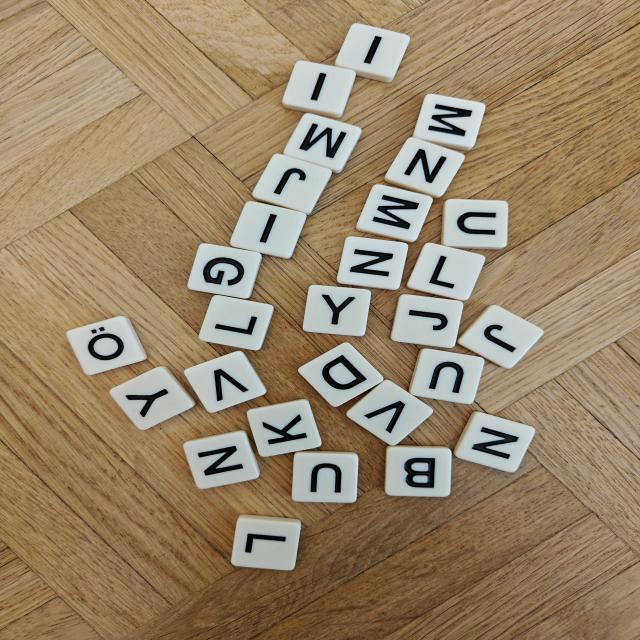b: (385, 446, 451, 497)
d: (298, 342, 383, 407)
g: (188, 243, 261, 298)
i: (335, 24, 410, 82), (230, 202, 306, 258), (283, 61, 356, 118)
j: (458, 305, 544, 368), (253, 154, 332, 215), (391, 294, 463, 348)
k: (247, 400, 321, 457)
l: (407, 243, 485, 301), (199, 295, 274, 350), (231, 515, 301, 570)
m: (284, 113, 361, 173), (356, 185, 432, 242), (414, 94, 485, 151)
n: (454, 412, 535, 472), (385, 138, 464, 198), (183, 430, 259, 489), (337, 236, 408, 290)
o_dot: (67, 316, 146, 375)
u: (409, 348, 484, 403), (292, 451, 359, 503), (441, 199, 508, 249)
v: (346, 380, 433, 445), (185, 351, 266, 412)
y: (110, 366, 195, 430), (303, 285, 370, 336)
